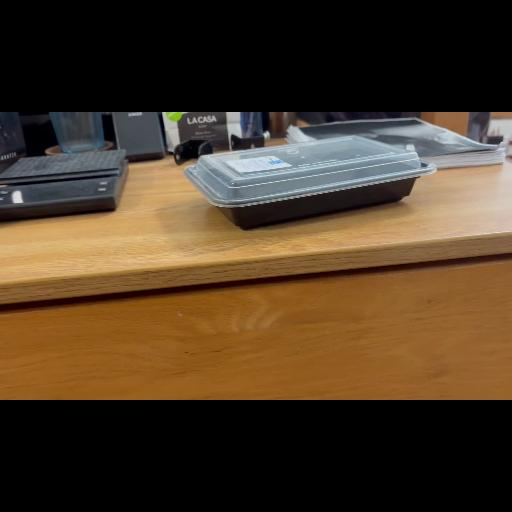rigid_plastic_container: (187, 133, 433, 231)
